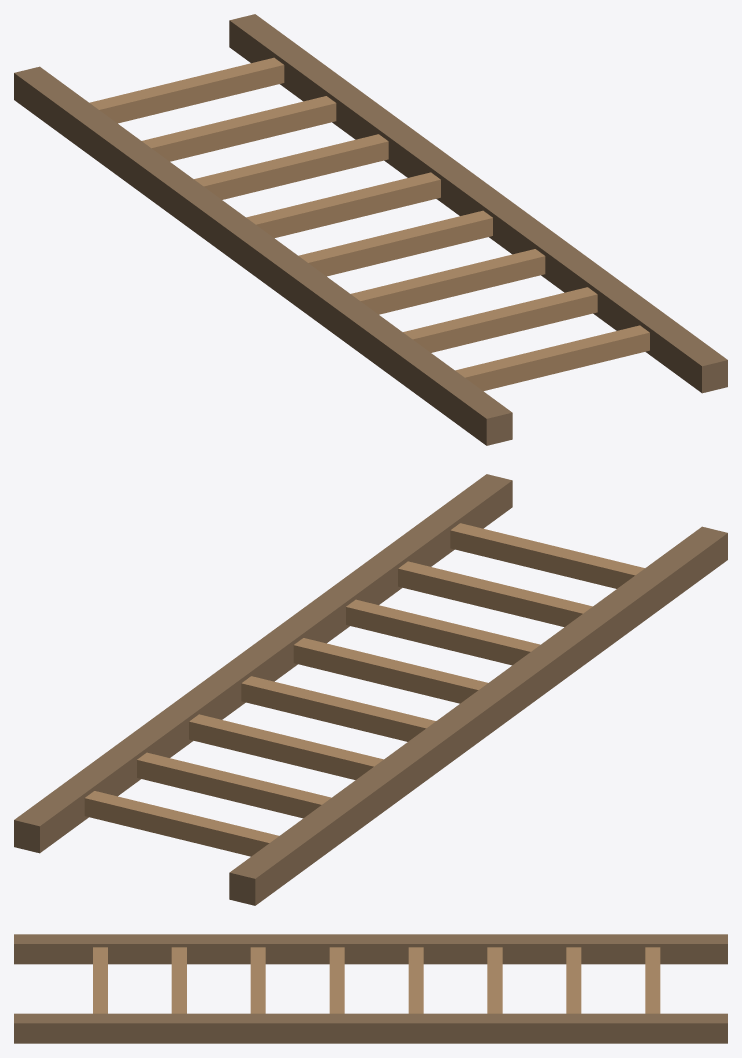
The model's file is mod_ladder_wood.glb.
3 renders of one model, top to bottom at view 1: azimuth 30°, elevation 25°; view 2: azimuth 150°, elevation 25°; view 3: azimuth 270°, elevation 25°, orthographic. The views are drawn at different scales.
Parts seen in each view (by area): view 1: side_l, side_r, rung_0, rung_1, rung_5, rung_2, rung_6, rung_7, rung_3, rung_4; view 2: side_l, side_r, rung_0, rung_4, rung_3, rung_7, rung_6, rung_2, rung_5, rung_1; view 3: side_r, side_l, rung_0, rung_1, rung_2, rung_3, rung_4, rung_5, rung_6, rung_7.
Part boxes in pixels (x1,y1,x2,y2): side_l: (14, 66, 512, 445); side_r: (229, 14, 727, 393); rung_0: (89, 57, 284, 123); rung_1: (142, 96, 336, 161); rung_5: (351, 249, 545, 314); rung_2: (194, 134, 388, 199); rung_6: (403, 287, 597, 352); rung_7: (455, 325, 649, 391); rung_3: (246, 172, 440, 238); rung_4: (298, 210, 492, 276); side_l: (229, 526, 727, 905); side_r: (14, 474, 512, 853); rung_0: (84, 791, 278, 856); rung_4: (293, 638, 487, 703); rung_3: (241, 676, 435, 741); rung_7: (450, 523, 644, 588); rung_6: (398, 561, 592, 627); rung_2: (189, 714, 383, 779); rung_5: (346, 599, 540, 665); rung_1: (137, 752, 331, 818); side_r: (14, 1013, 727, 1043); side_l: (14, 934, 727, 964); rung_0: (645, 947, 660, 1013); rung_1: (566, 947, 581, 1013); rung_2: (487, 947, 502, 1013); rung_3: (408, 947, 423, 1013); rung_4: (329, 947, 344, 1013); rung_5: (250, 947, 265, 1013); rung_6: (171, 947, 186, 1013); rung_7: (93, 947, 107, 1013).
Bounding box in the file's own units: 1.12 × 0.12 × 3.8.
